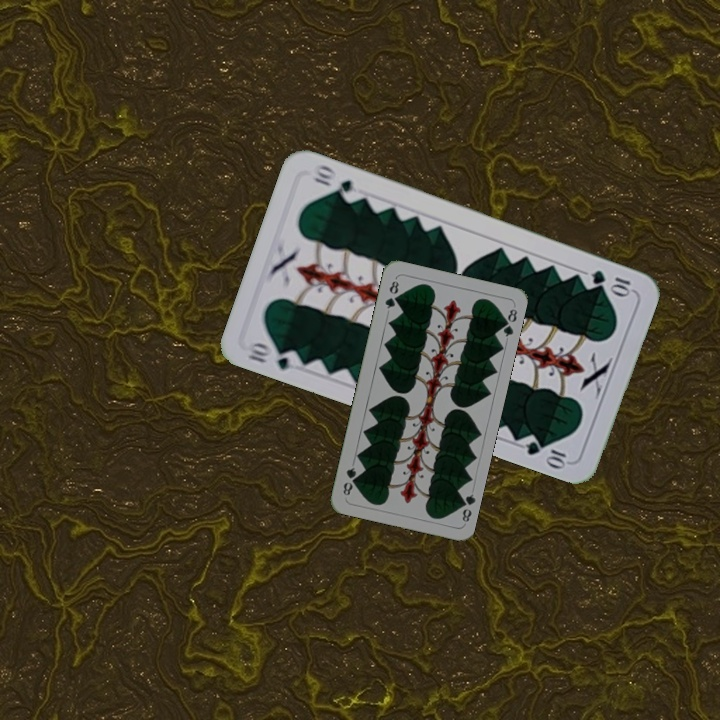G10: (243, 337, 303, 373), (587, 266, 635, 298)
G8: (455, 490, 478, 524), (381, 275, 401, 311)
